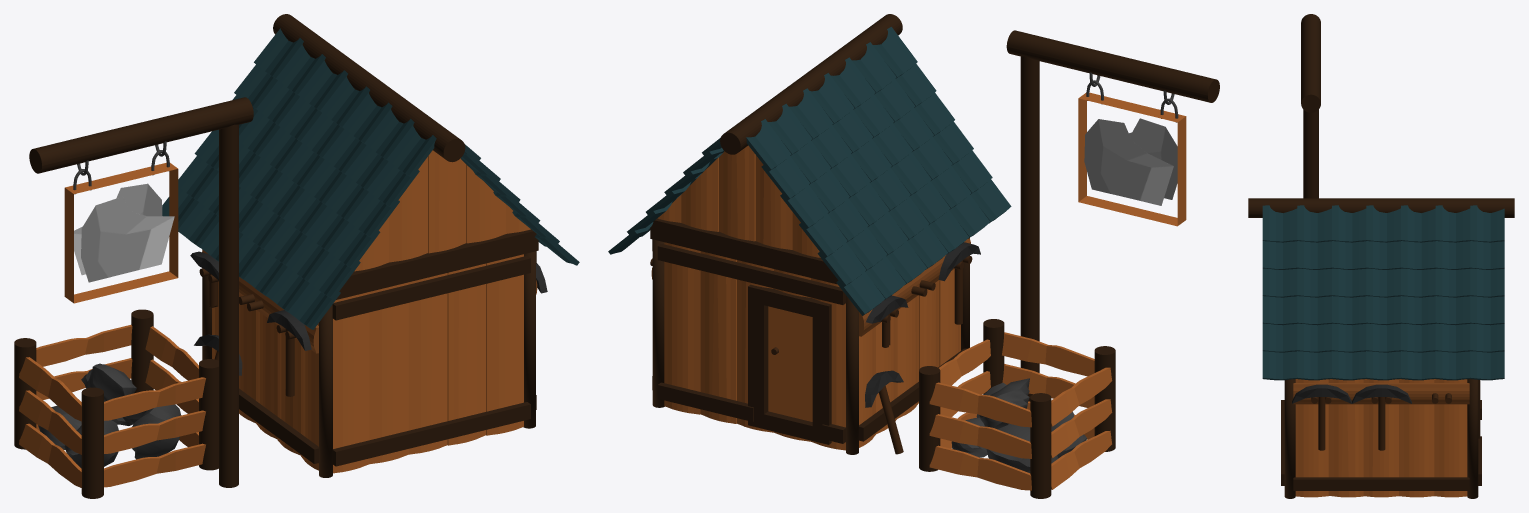
File: MineBuilding.fbx
The picture shows the model from 3 angles, left to right: view 1: azimuth 30°, elevation 25°; view 2: azimuth 150°, elevation 25°; view 3: azimuth 270°, elevation 25°; orthographic projection. The views are drawn at different scales.
Parts seen in each view (by area): view 1: Cube.010, Cube.007, Cylinder.005, Icon, Cylinder.007, Cylinder.003, rock.004, rock.001, Cylinder.004; view 2: Cube.010, Cube.007, Cylinder.005, Icon, Cylinder.007, Cylinder.008, Cylinder.003, rock.004, rock.003, Cylinder.004; view 3: Cube.010, Cylinder.005, Cylinder.001.
Part boxes in pixels (x1,y1,x2,y2): Cube.010: [162, 14, 579, 477]; Cube.007: [19, 325, 205, 487]; Cylinder.005: [29, 97, 253, 487]; Icon: [64, 162, 178, 303]; Cylinder.007: [14, 309, 218, 498]; Cylinder.003: [267, 310, 311, 396]; rock.004: [81, 363, 136, 401]; rock.001: [132, 404, 181, 459]; Cylinder.004: [190, 251, 218, 307]; Cube.010: [608, 14, 1011, 454]; Cube.007: [929, 332, 1112, 490]; Cylinder.005: [1006, 30, 1219, 401]; Icon: [1078, 92, 1186, 226]; Cylinder.007: [919, 319, 1115, 498]; Cylinder.008: [865, 370, 903, 454]; Cylinder.003: [938, 242, 980, 324]; rock.004: [979, 378, 1029, 429]; rock.003: [986, 424, 1058, 472]; Cylinder.004: [866, 295, 908, 347]; Cube.010: [1248, 198, 1514, 498]; Cylinder.005: [1301, 14, 1320, 198]; Cylinder.001: [1292, 384, 1411, 450].
Size of the model in its own units: 2633 by 1938 by 1514.
